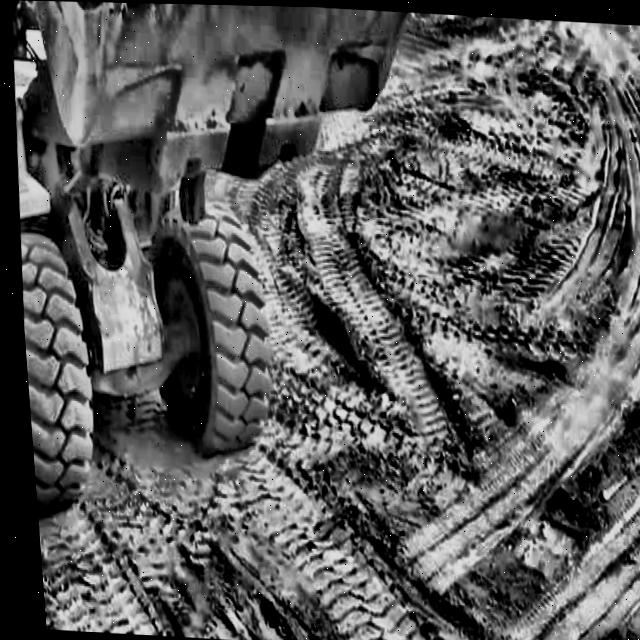buldozerpayloadergrader: (0, 0, 468, 554)
